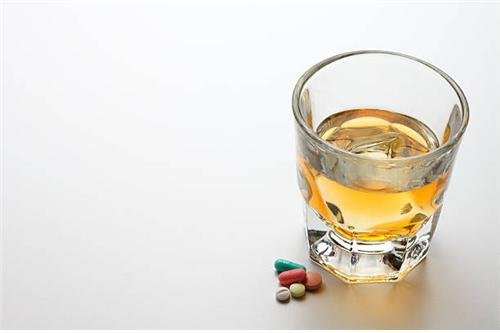alcohol: (293, 49, 470, 284)
